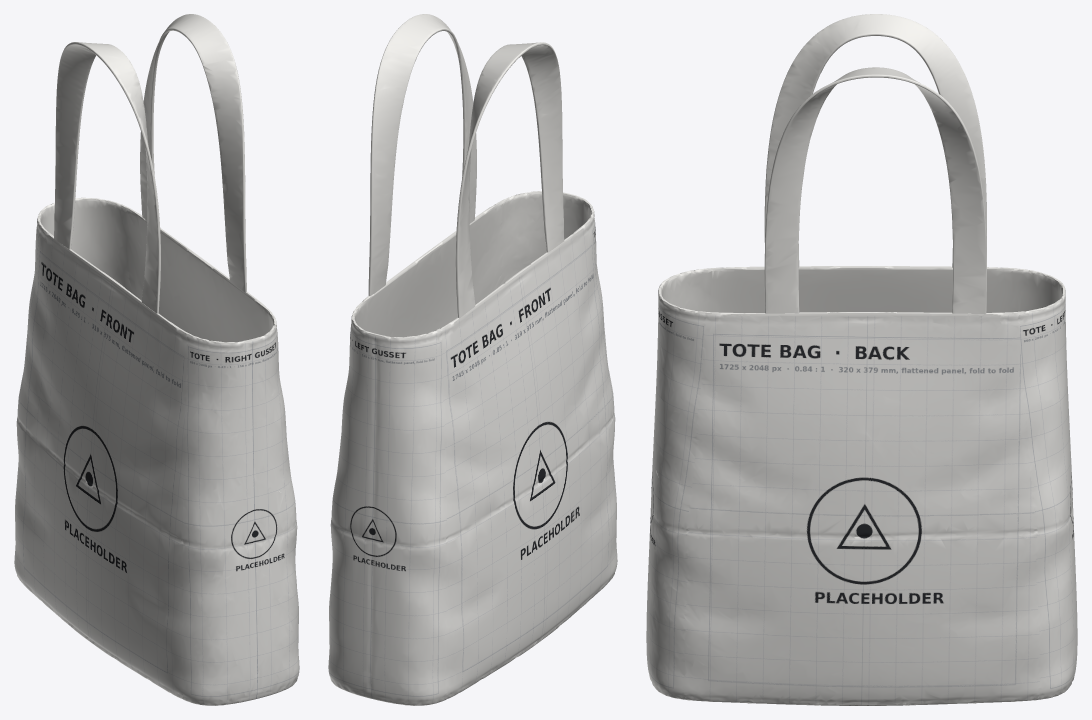
The model's file is tote-bag.glb.
3 views of the same model, side by side, from view 1: azimuth 30°, elevation 25°; view 2: azimuth 150°, elevation 25°; view 3: azimuth 270°, elevation 25° (orthographic). The views are drawn at different scales.
Parts seen in each view (by area): view 1: Canvas; view 2: Canvas; view 3: Canvas.
Part boxes in pixels (<box>): Canvas: <box>14,14,299,705</box>; Canvas: <box>328,14,617,705</box>; Canvas: <box>646,14,1077,705</box>.
Size of the model in its own units: 2.31 by 9.16 by 5.69.
Materials: 7 (4 with a texture image).
